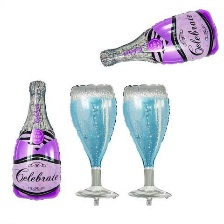bottle: (97, 6, 221, 70), (9, 76, 69, 203)
glass: (120, 76, 184, 205), (66, 80, 120, 201)
